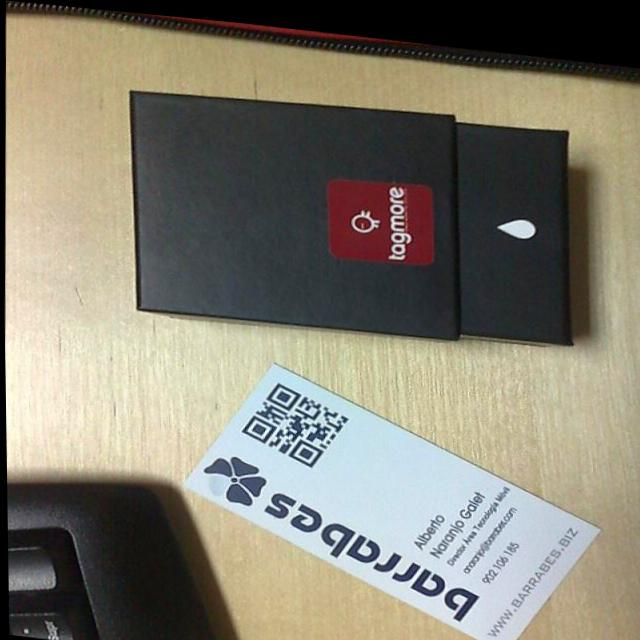qrcode: (239, 374, 349, 465)
